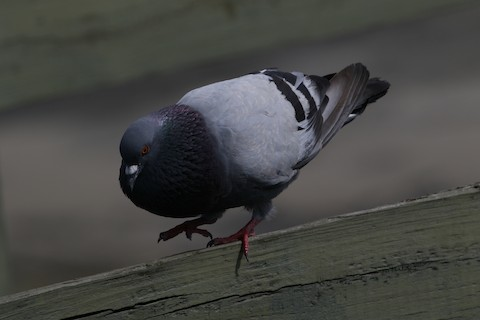pigeon: (116, 49, 395, 266)
